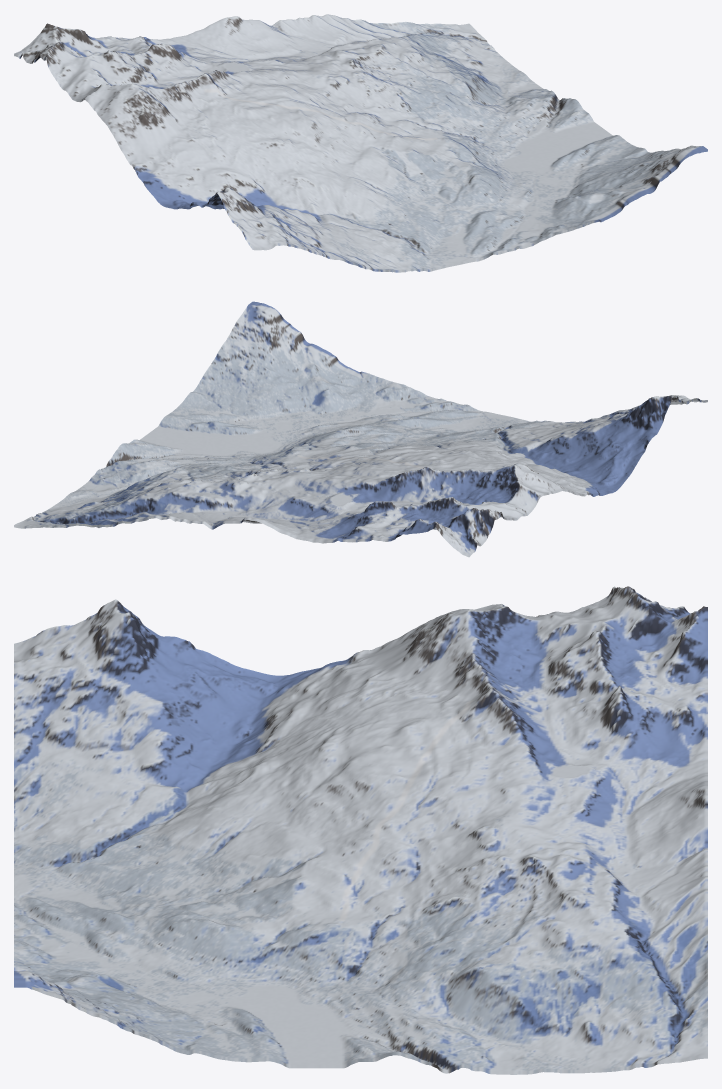
Rendered from terrain_lod1.glb.
The picture shows the model from 3 angles, top to bottom: view 1: azimuth 30°, elevation 25°; view 2: azimuth 150°, elevation 25°; view 3: azimuth 270°, elevation 25°; orthographic projection. The views are drawn at different scales.
Visible parts, largest first — view 1: T1_0_4, T1_0_5, T1_0_3, T1_2_6, T1_1_5, T1_2_5, T1_1_4, T1_5_0, T1_3_6, T1_3_5, T1_0_1, T1_4_0 (+95 smaller); view 2: T1_10_9, T1_10_8, T1_9_9, T1_9_8, T1_0_7, T1_8_8, T1_0_0, T1_10_7, T1_6_1, T1_1_7, T1_9_7, T1_7_9 (+66 smaller); view 3: T1_1_9, T1_9_2, T1_1_8, T1_0_8, T1_2_9, T1_9_1, T1_2_8, T1_9_3, T1_3_1, T1_1_7, T1_1_3, T1_10_1 (+97 smaller).
Part boxes in pixels (x1,y1,x2,y2): T1_0_4: (109,107,174,167); T1_0_5: (133,151,198,200); T1_0_3: (85,83,150,129); T1_2_6: (240,164,304,207); T1_1_5: (175,138,239,185); T1_2_5: (216,130,280,173); T1_1_4: (151,107,215,150); T1_5_0: (221,16,285,54); T1_3_6: (281,159,346,197); T1_3_5: (258,125,322,163); T1_0_1: (38,42,102,87); T1_4_0: (180,19,244,57); T1_10_9: (229,301,293,358); T1_10_8: (205,335,270,391); T1_9_9: (270,327,335,379); T1_9_8: (246,359,311,408); T1_0_7: (595,421,660,464); T1_8_8: (288,380,352,421); T1_0_0: (427,509,492,557); T1_10_7: (181,373,245,416); T1_6_1: (204,483,268,517); T1_1_7: (554,427,618,467); T1_9_7: (222,392,287,429); T1_7_9: (353,377,417,413); T1_1_9: (14,673,83,746); T1_9_2: (499,968,569,1035); T1_1_8: (83,666,152,737); T1_0_8: (83,599,152,675); T1_2_9: (14,737,83,806); T1_9_1: (569,962,638,1028); T1_2_8: (83,730,152,793); T1_9_3: (430,968,499,1036); T1_3_1: (569,701,638,771); T1_1_7: (152,676,222,753); T1_1_3: (430,617,499,687); T1_10_1: (569,1015,638,1073).
Bounding box in the file's own units: 5632 × 1405 × 5120.
